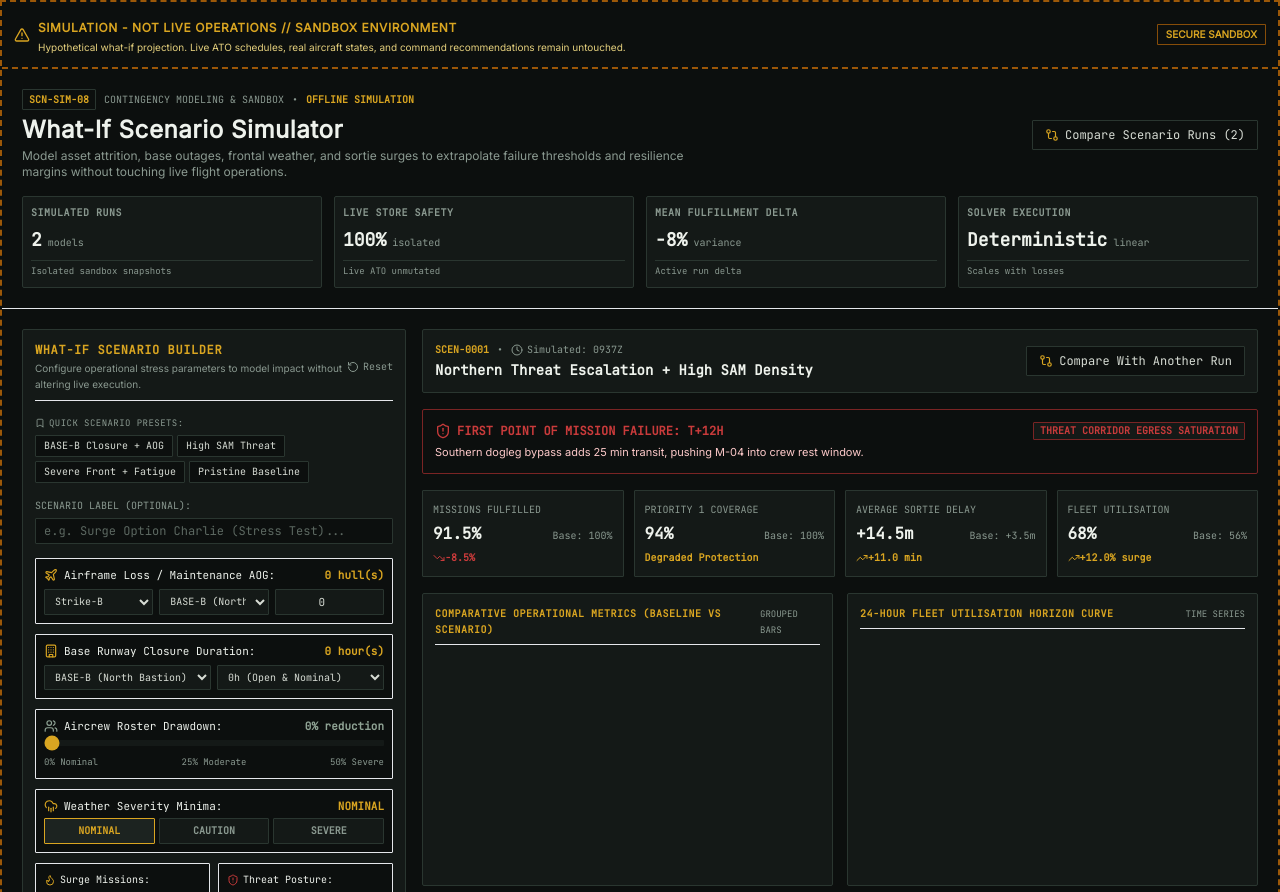
Test case: Stage 8: ScenariosPage (What-If Scenario Simulator & Simulation Safety) › opens cross-scenario comparison modal when clicking compare button
The width and height of the screenshot is (1280, 892).
Click the button "Compare Scenario Runs (2)" at (1145, 134), box [1032,120,1258,150]
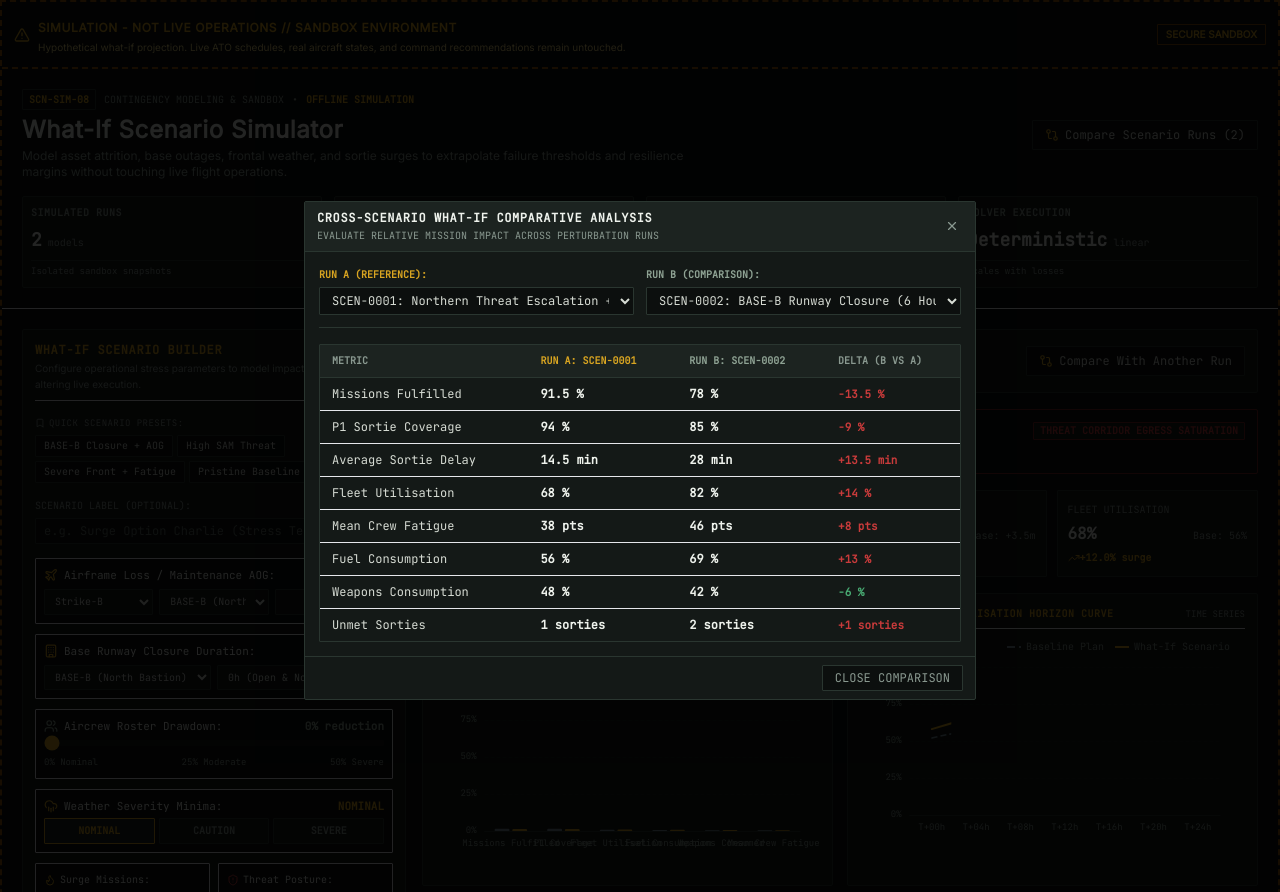
Result: the heading "CROSS-SCENARIO WHAT-IF COMPARATIVE ANALYSIS" is shown at [317,210,659,226]
Result: the dropdown named "Select Run A" is shown at [319,286,634,314]
Result: the dropdown named "Select Run B" is shown at [646,286,961,314]
